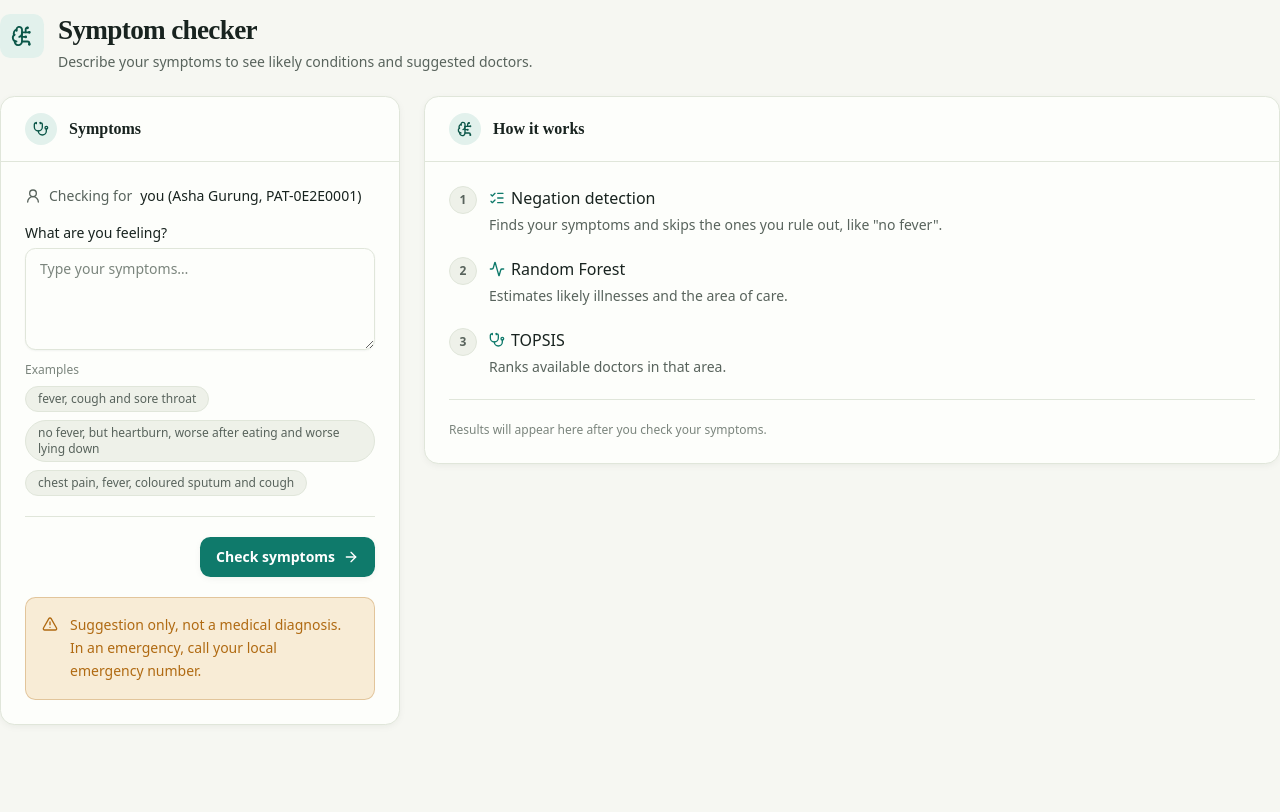
Scenario: SymptomCheckerPage › shows an emergency message for red-flag symptoms and never falls back to the keyword match
Click the text box labelled "What are you feeling?" at (200, 299), box [25,248,375,350]
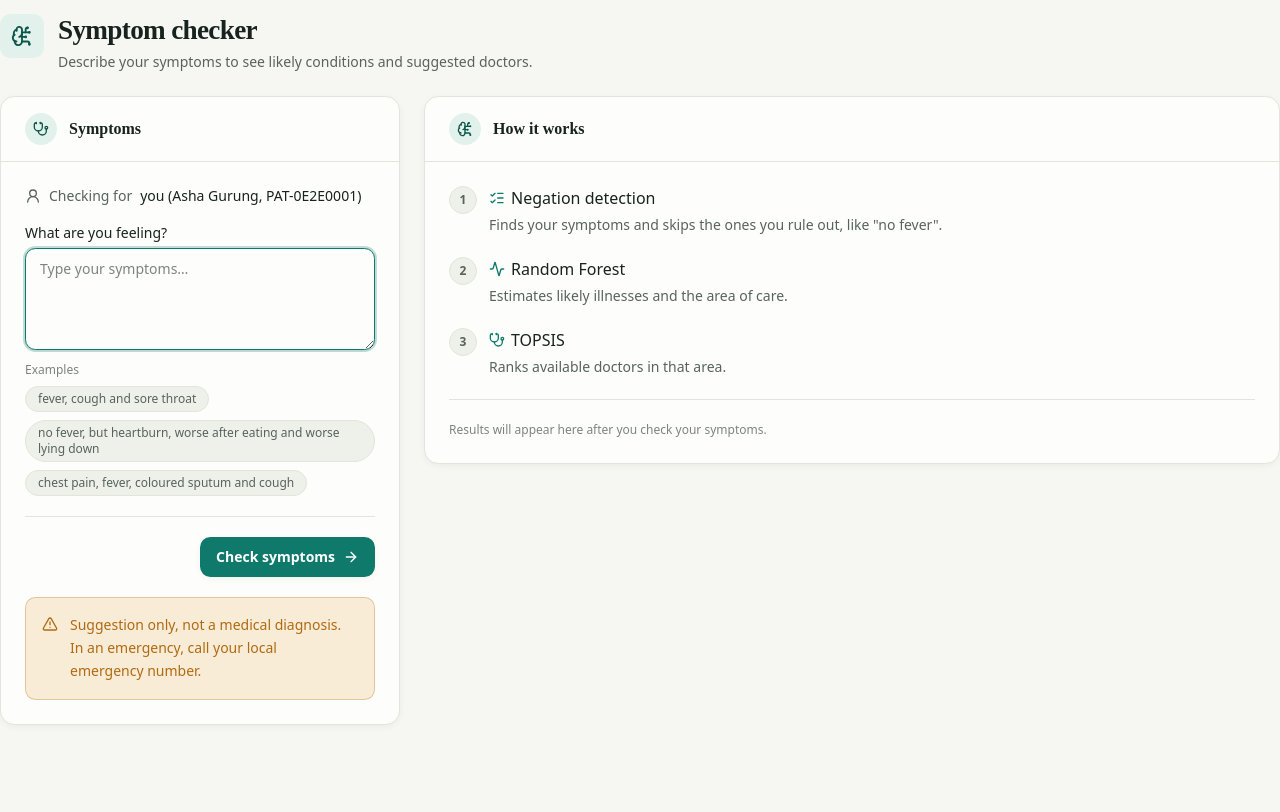
Type keys "coughing up blood"
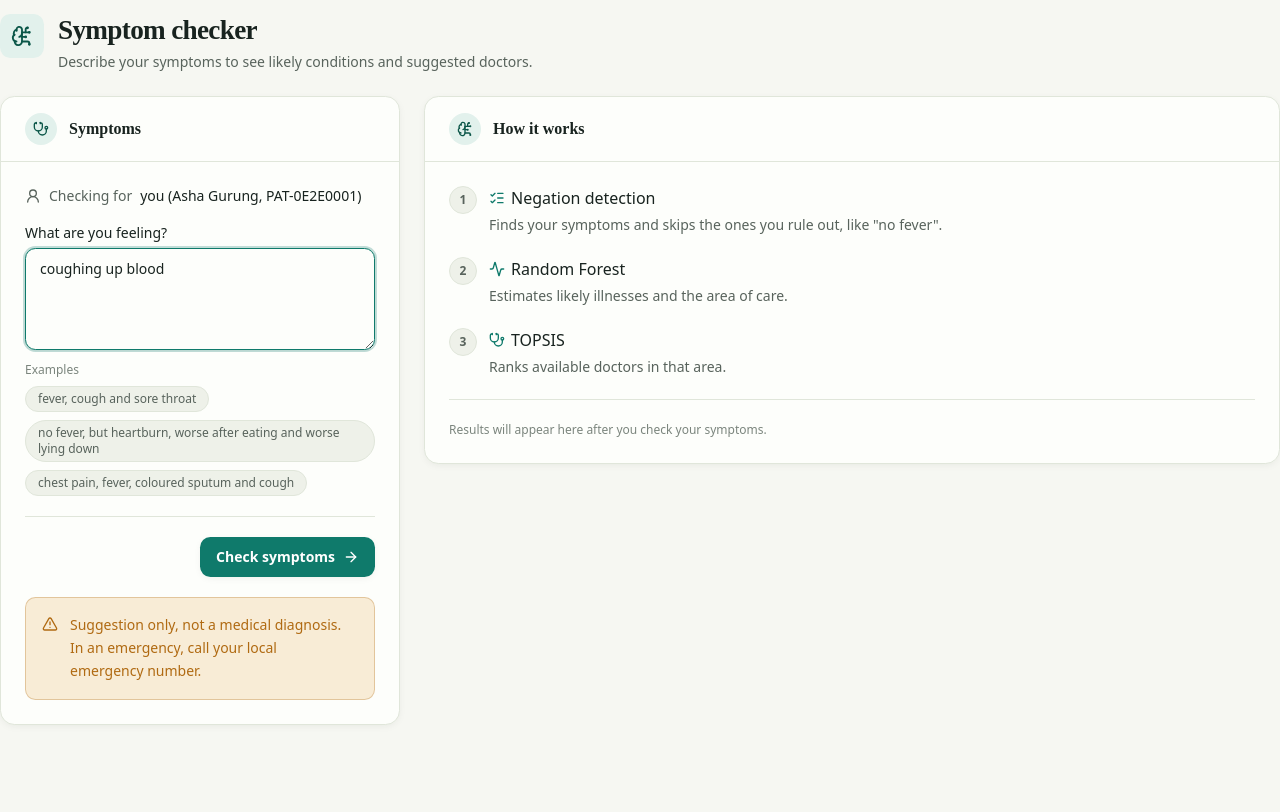
Click the button "Check symptoms" at (288, 557), box [200,537,375,577]
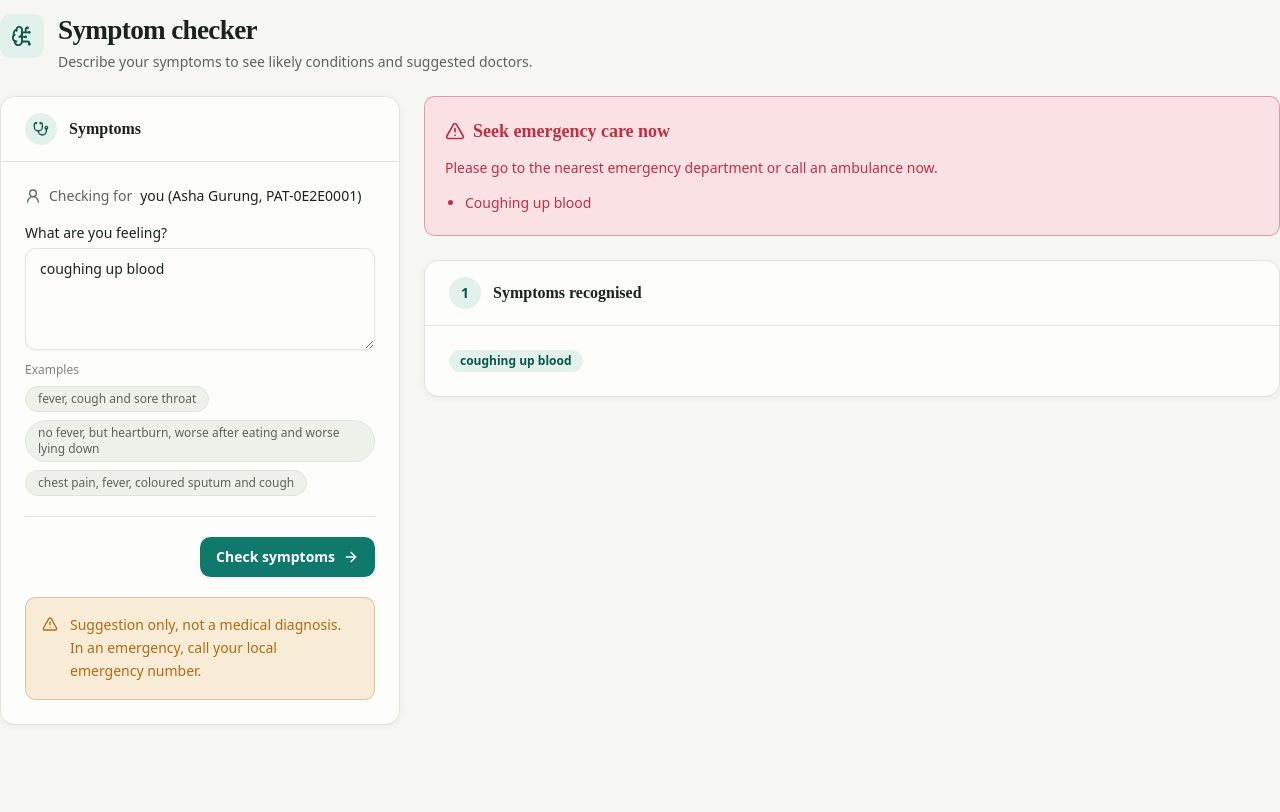
Expected: the message shows "Seek emergency care now", [473,121,670,141]
Expected: the message shows "Coughing up blood", [465,193,591,212]
